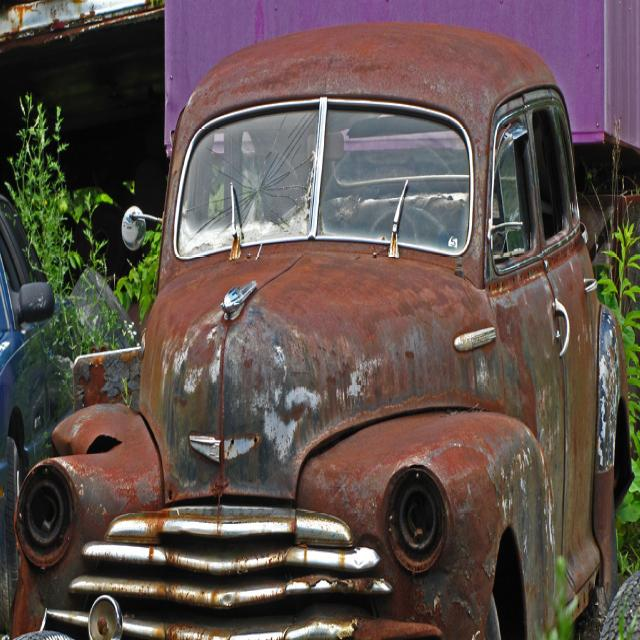car: (48, 53, 624, 636)
